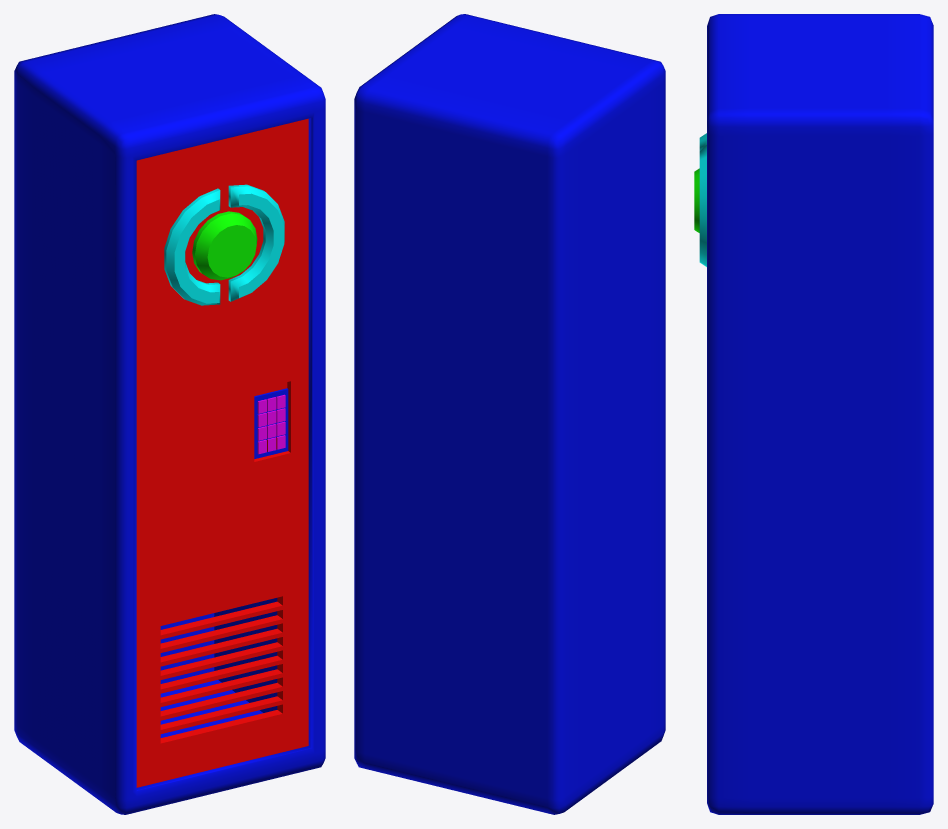
File: SM_Locker.FBX
3 renders of one model, left to right at view 1: azimuth 30°, elevation 25°; view 2: azimuth 150°, elevation 25°; view 3: azimuth 270°, elevation 25°, orthographic. The views are drawn at different scales.
Parts seen in each view (by area): view 1: Locker; view 2: Locker; view 3: Locker.
Part boxes in pixels (x1,y1,x2,y2): Locker: [14, 14, 325, 814]; Locker: [354, 14, 665, 814]; Locker: [694, 14, 933, 814].
Size of the model in its own units: 63.98 by 200 by 61.76.
